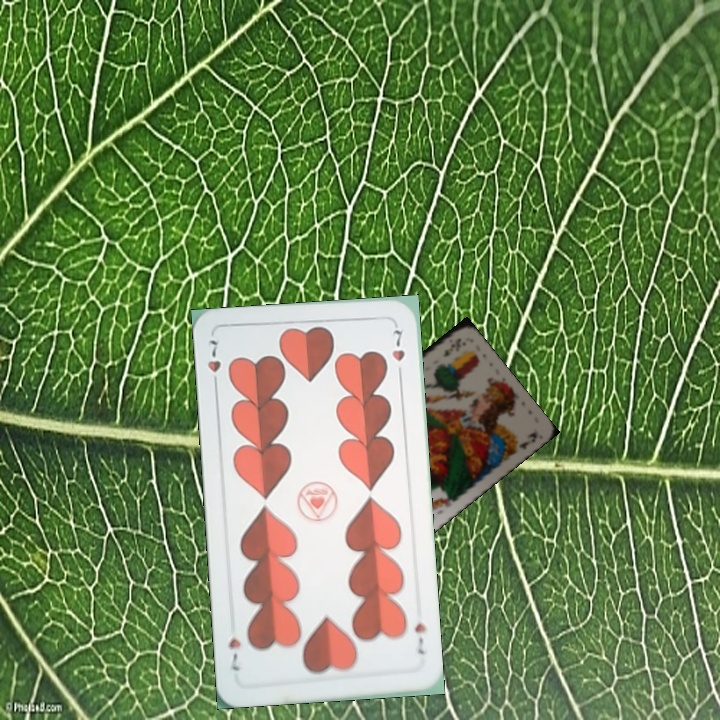EK: (438, 334, 464, 359)
H7: (203, 336, 223, 392), (410, 619, 428, 657)
